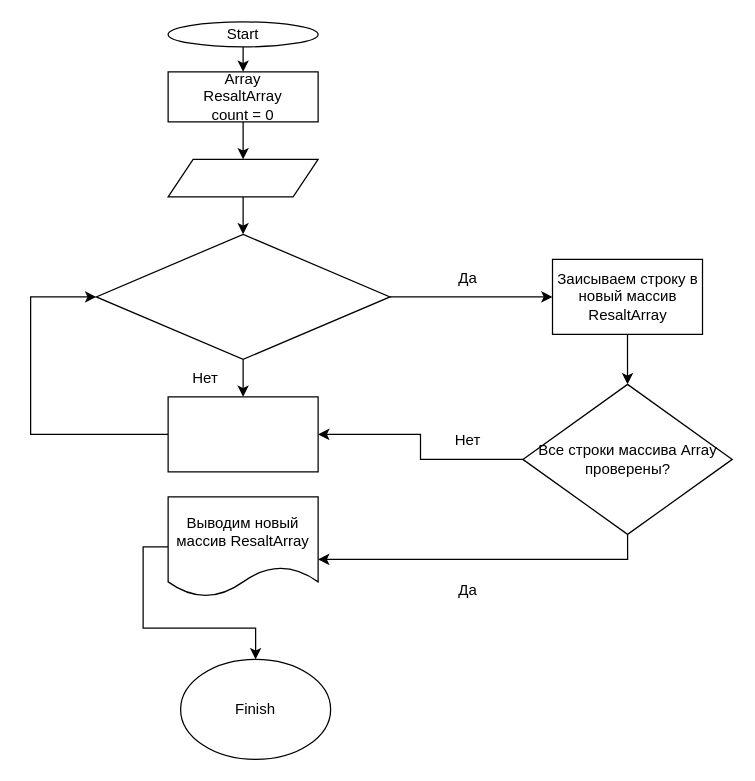
Image size: 755x781. Some labels were removed from this diagram. The centre of each missing label's shape, as x and y in pixels:
count ++: [242,434]
input Array: [242,177]
Подсчитываем количество сторок в массиве Array длинной <=3. Длина строки <=3?: [242,296]
